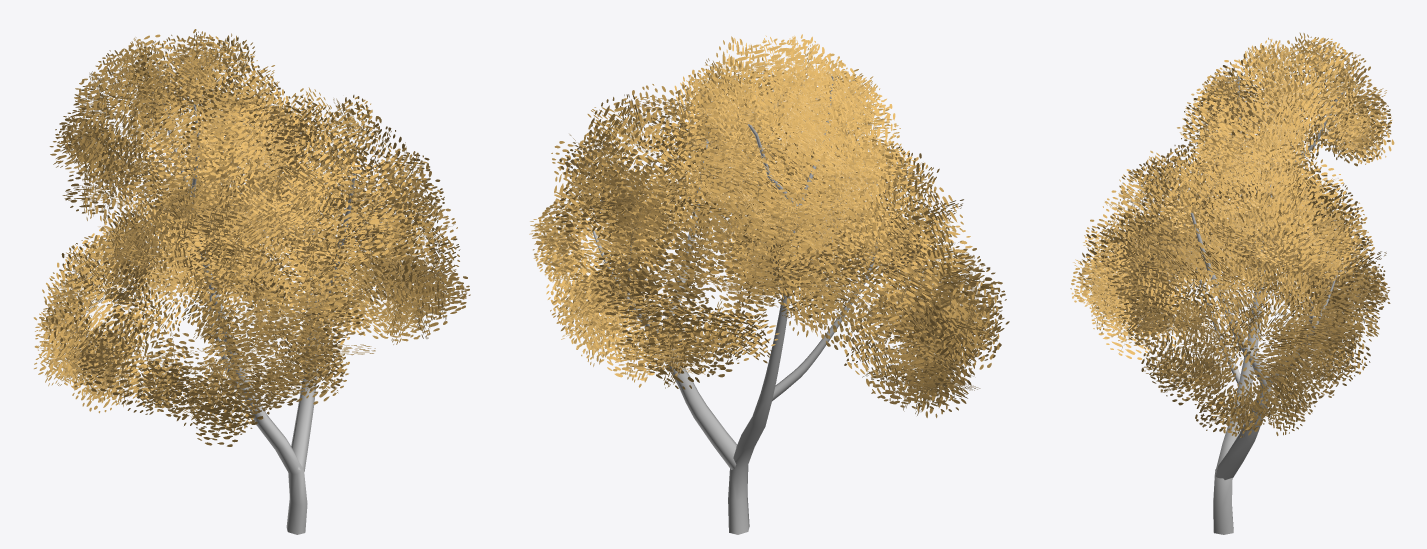
The model's file is Arbol1_11m.fbx.
3 views of the same model, side by side, from view 1: azimuth 30°, elevation 25°; view 2: azimuth 150°, elevation 25°; view 3: azimuth 270°, elevation 25° (orthographic). The views are drawn at different scales.
Parts seen in each view (by area): view 1: hojas1_ Arbol 11m, tronco1_ Arbol 11m; view 2: hojas1_ Arbol 11m, tronco1_ Arbol 11m; view 3: hojas1_ Arbol 11m, tronco1_ Arbol 11m.
Boxes of the visible parts, x1=… form: hojas1_ Arbol 11m: x1=33, y1=29, x2=470, y2=446; tronco1_ Arbol 11m: x1=157, y1=66, x2=355, y2=534; hojas1_ Arbol 11m: x1=529, y1=34, x2=1009, y2=417; tronco1_ Arbol 11m: x1=592, y1=76, x2=877, y2=534; hojas1_ Arbol 11m: x1=1070, y1=32, x2=1394, y2=437; tronco1_ Arbol 11m: x1=1184, y1=76, x2=1345, y2=534.
Size of the model in its own units: 1142 by 1290 by 886.
